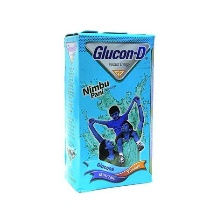carton: (54, 26, 172, 195)
